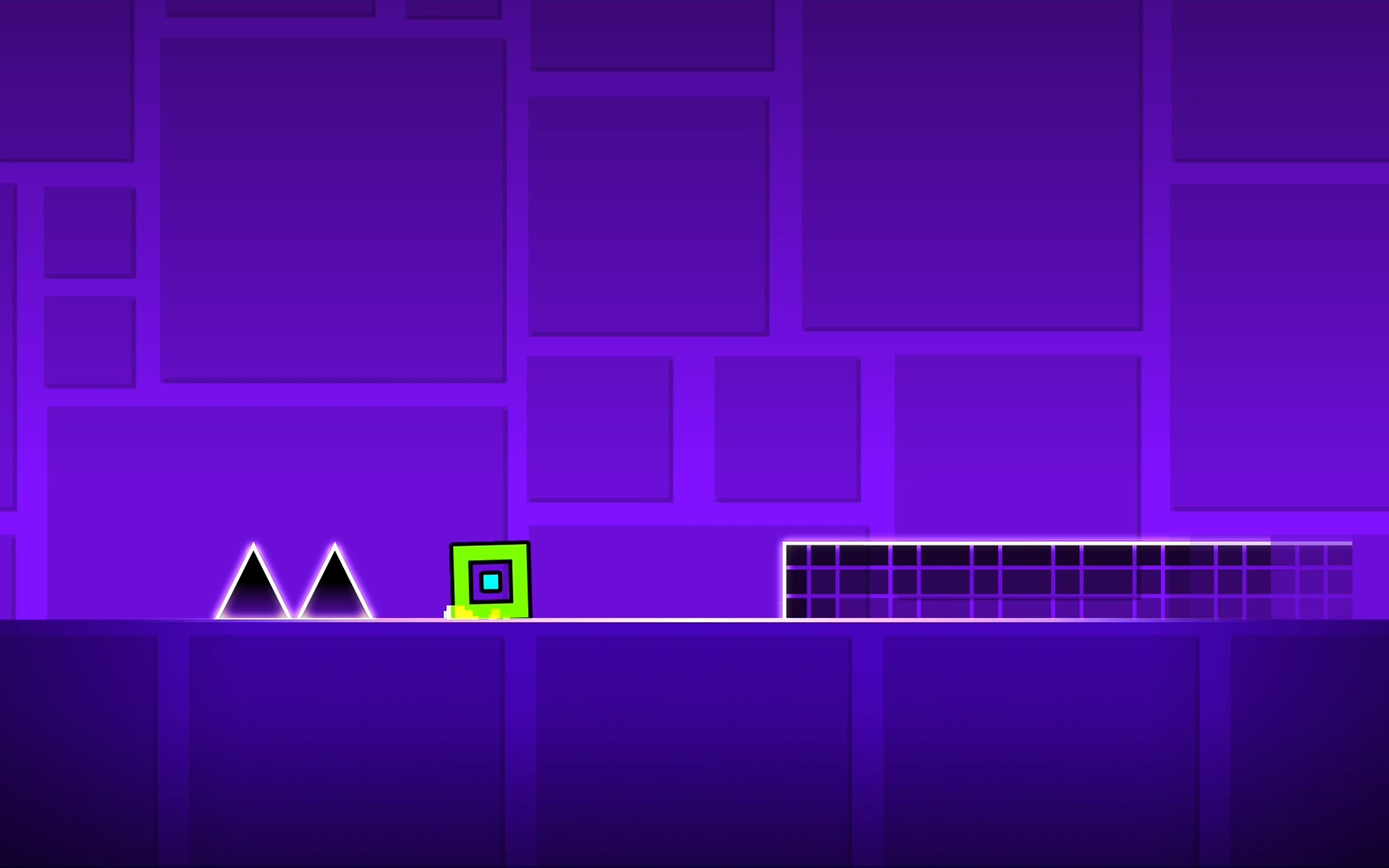Block2: (783, 540, 1366, 619)
Player: (450, 541, 532, 617)
Spike: (296, 542, 372, 618), (215, 542, 291, 617)
